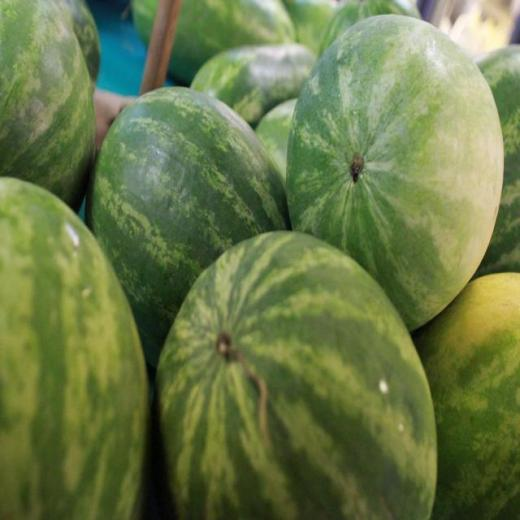Cherry: (0, 2, 520, 520), (88, 82, 288, 328)
